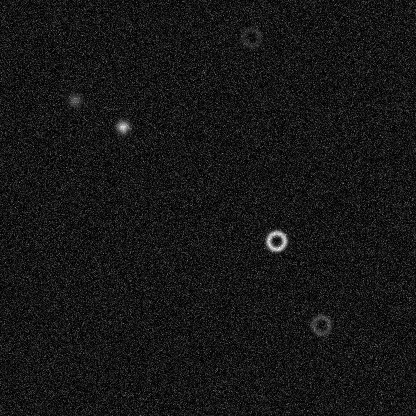Ring: (239, 25, 263, 49), (309, 312, 333, 336), (264, 228, 288, 252)
Spot: (114, 118, 130, 134), (66, 91, 82, 107)
